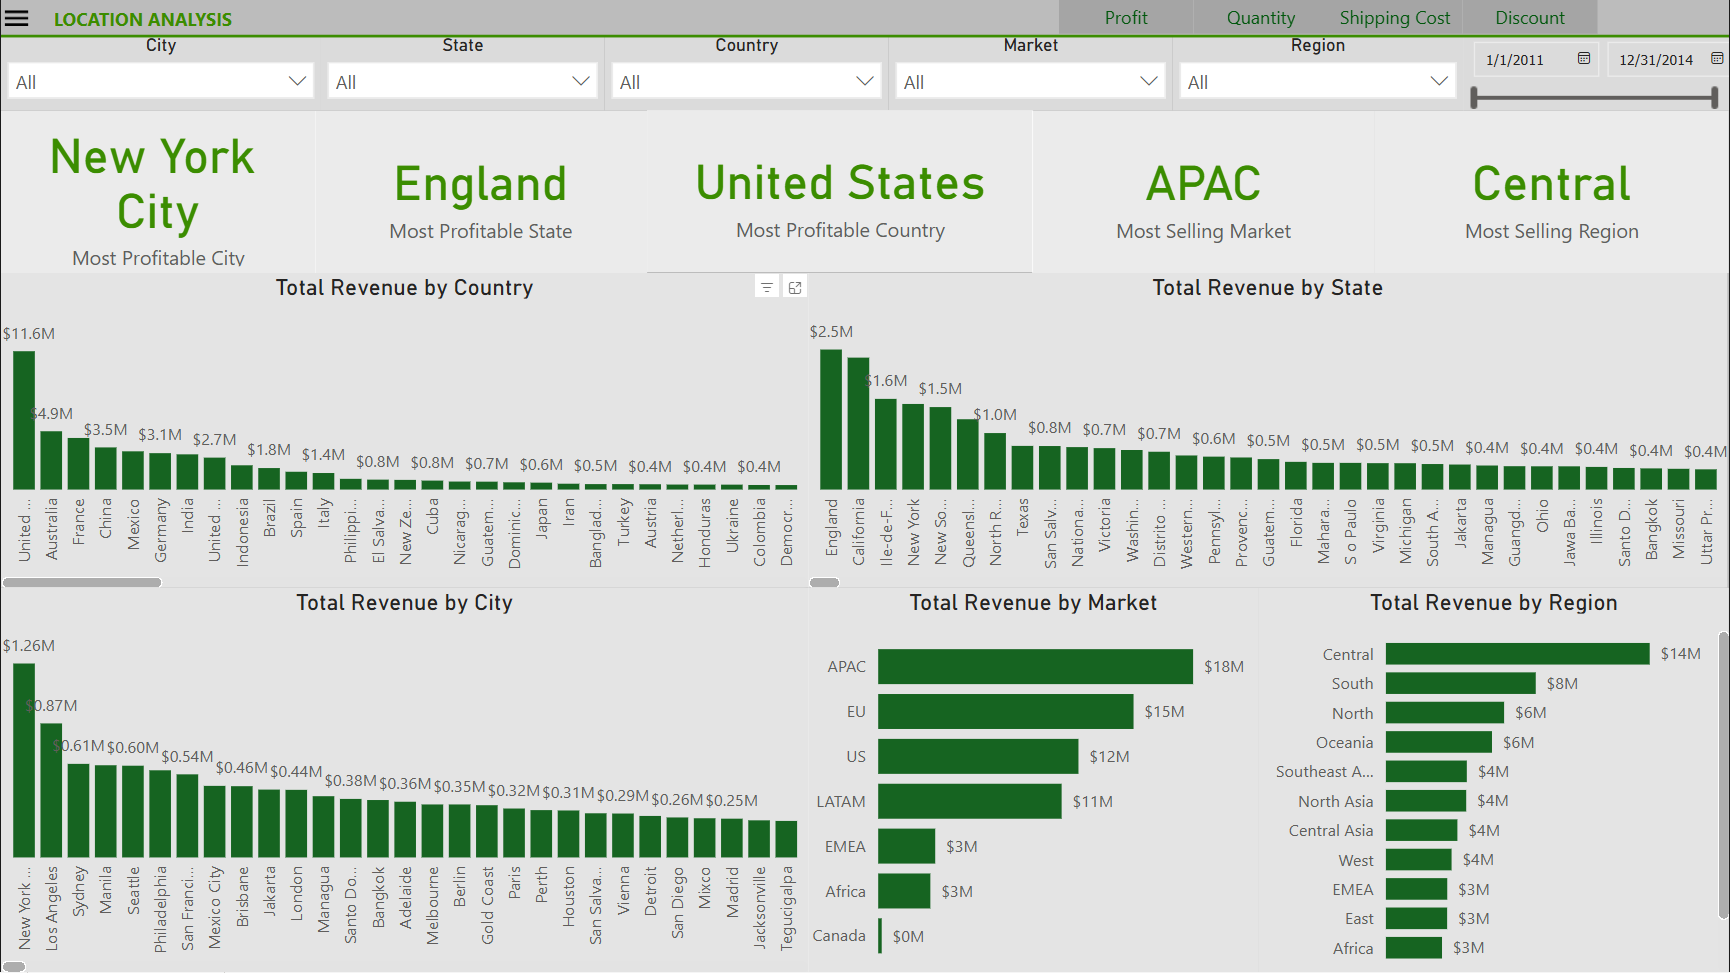

The page's visual inventory and layout, read from the dashboard file:
{"tool":"powerbi","page":{"name":"Location","canvas":[1280,720],"ordinal":0},"visuals":[{"type":"group","id":"g1","title":"page","box":[0,0,23,27],"z":2000},{"type":"actionButton","title":"Menu","box":[0,0,23,27],"z":2000,"group":"g1"},{"type":"textbox","box":[34,0,171,28],"z":3000},{"type":"card","fields":{"Values":["Measure Location.Most Profitable City"]},"box":[0,82.1,232.9,120],"z":4000},{"type":"card","fields":{"Values":["Measure Location.Most Selling Market"]},"box":[764,82,254,120],"z":5000},{"type":"card","fields":{"Values":["Measure Location.Most Selling Region"]},"box":[1018,82,262,120],"z":6000},{"type":"card","fields":{"Values":["Measure Location.Most Profitable State"]},"box":[232.9,82.1,245.5,120],"z":7000},{"type":"card","fields":{"Values":["Measure Location.Most Profitable Country"]},"box":[478.5,81.7,286.4,120.3],"z":8000},{"type":"slicer","title":"City","fields":{"Values":["Dim_Location.City"]},"box":[0,26.2,237.4,56],"z":9000},{"type":"slicer","title":"Country","fields":{"Values":["Dim_Location.Country"]},"box":[447.7,26.2,210.3,56],"z":10000},{"type":"slicer","title":"Market","fields":{"Values":["Dim_Location.Market"]},"box":[658.1,26.2,210.3,56],"z":11000},{"type":"slicer","title":"Region","fields":{"Values":["Dim_Location.Region"]},"box":[868.4,26.2,214.8,56],"z":12000},{"type":"slicer","title":"State","fields":{"Values":["Dim_Location.State"]},"box":[237.4,26.2,210.3,56],"z":13000},{"type":"slicer","fields":{"Values":["Dim_Date.Order Date"]},"box":[1083,26,197,56],"z":14000},{"type":"clusteredColumnChart","fields":{"Category":["Dim_Location.City"],"Y":["Measure Product.Total Revenue"]},"box":[0,435.4,597.9,284.6],"z":15000},{"type":"clusteredColumnChart","fields":{"Category":["Dim_Location.Country"],"Y":["Measure Product.Total Revenue"]},"box":[0,202,597.9,233.4],"z":16000},{"type":"clusteredBarChart","fields":{"Category":["Dim_Location.Market"],"Y":["Measure Product.Total Revenue"]},"box":[597.9,435.4,334,284.6],"z":17000},{"type":"clusteredBarChart","fields":{"Category":["Dim_Location.Region"],"Y":["Measure Product.Total Revenue"]},"box":[931.9,435.4,348.3,284.6],"z":18000},{"type":"clusteredColumnChart","fields":{"Category":["Dim_Location.State"],"Y":["Measure Product.Total Revenue"]},"box":[597.9,202,681.4,233.4],"z":19000},{"type":"shape","title":"H Line","box":[0,21,1280,12],"z":19500},{"type":"actionButton","box":[783.7,0,99.7,25],"z":19501},{"type":"actionButton","box":[883.4,0,99.7,25],"z":19502},{"type":"actionButton","box":[983,0,99.7,25],"z":19503},{"type":"actionButton","box":[1082.7,0,99.7,25],"z":19504}]}

Visuals, with their boxes in screenshot pixels (x1, y1, x2, y2), scaled from the page's 1280x720 canvas onto the 1730x973 screenshot:
"page" group: (0, 0, 31, 36)
"Menu" actionButton: (0, 0, 31, 36)
textbox: (46, 0, 277, 38)
card - Measure Location.Most Profitable City: (0, 111, 315, 273)
card - Measure Location.Most Selling Market: (1033, 111, 1376, 273)
card - Measure Location.Most Selling Region: (1376, 111, 1729, 273)
card - Measure Location.Most Profitable State: (315, 111, 647, 273)
card - Measure Location.Most Profitable Country: (647, 110, 1034, 273)
"City" slicer: (0, 35, 321, 111)
"Country" slicer: (605, 35, 889, 111)
"Market" slicer: (889, 35, 1174, 111)
"Region" slicer: (1174, 35, 1464, 111)
"State" slicer: (321, 35, 605, 111)
slicer - Dim_Date.Order Date: (1464, 35, 1729, 111)
clusteredColumnChart - Dim_Location.City x Measure Product.Total Revenue: (0, 588, 808, 972)
clusteredColumnChart - Dim_Location.Country x Measure Product.Total Revenue: (0, 273, 808, 588)
clusteredBarChart - Dim_Location.Market x Measure Product.Total Revenue: (808, 588, 1260, 972)
clusteredBarChart - Dim_Location.Region x Measure Product.Total Revenue: (1260, 588, 1729, 972)
clusteredColumnChart - Dim_Location.State x Measure Product.Total Revenue: (808, 273, 1729, 588)
"H Line" shape: (0, 28, 1729, 45)
actionButton: (1059, 0, 1194, 34)
actionButton: (1194, 0, 1329, 34)
actionButton: (1329, 0, 1463, 34)
actionButton: (1463, 0, 1598, 34)
